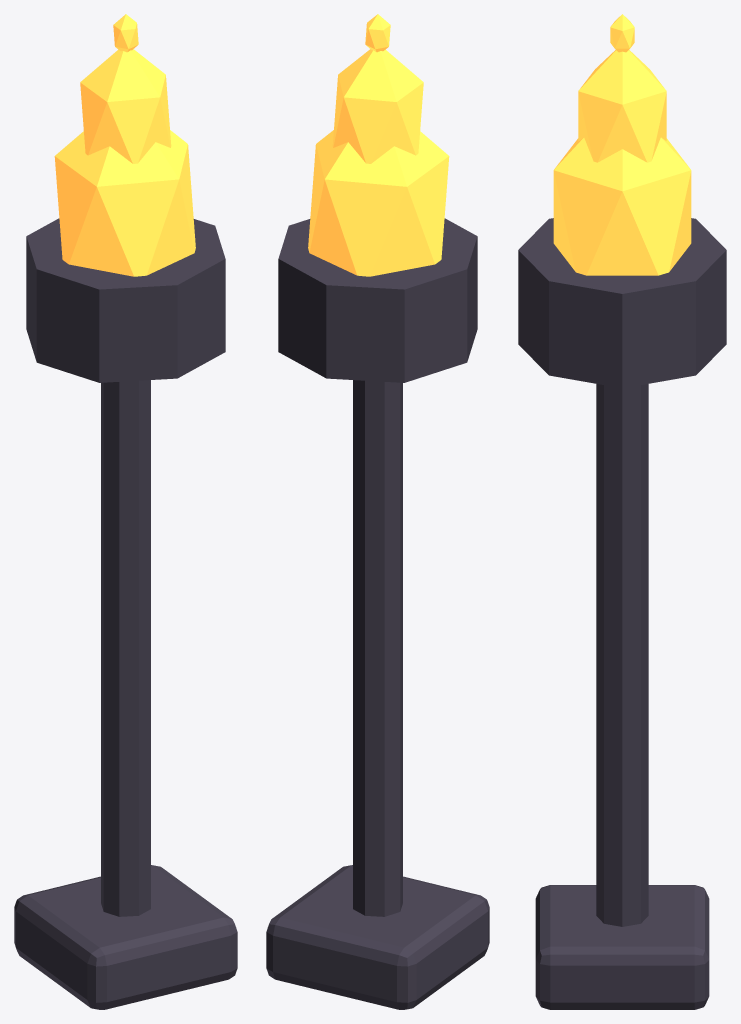
File: torch.glb
3 renders of one model, left to right at view 1: azimuth 30°, elevation 25°; view 2: azimuth 150°, elevation 25°; view 3: azimuth 270°, elevation 25°, orthographic.
Visible parts, largest first — view 1: iron stand, brazier, foot, faceted flame, faceted flame.001, faceted flame.002; view 2: iron stand, brazier, foot, faceted flame, faceted flame.001, faceted flame.002; view 3: iron stand, brazier, foot, faceted flame, faceted flame.001, faceted flame.002.
Part boxes in pixels (x1=…): iron stand: x1=101, y1=380, x2=150, y2=916; brazier: x1=26, y1=218, x2=225, y2=382; foot: x1=14, y1=865, x2=237, y2=1009; faceted flame: x1=54, y1=130, x2=195, y2=276; faceted flame.001: x1=80, y1=49, x2=171, y2=163; faceted flame.002: x1=113, y1=14, x2=138, y2=52; iron stand: x1=353, y1=380, x2=402, y2=916; brazier: x1=278, y1=218, x2=477, y2=382; foot: x1=266, y1=865, x2=489, y2=1009; faceted flame: x1=308, y1=130, x2=449, y2=276; faceted flame.001: x1=332, y1=49, x2=423, y2=163; faceted flame.002: x1=365, y1=14, x2=390, y2=52; iron stand: x1=596, y1=384, x2=648, y2=926; brazier: x1=518, y1=218, x2=726, y2=388; foot: x1=535, y1=885, x2=709, y2=1009; faceted flame: x1=553, y1=137, x2=691, y2=275; faceted flame.001: x1=578, y1=50, x2=666, y2=162; faceted flame.002: x1=610, y1=14, x2=634, y2=52.
Bounding box in the file's own units: 0.36 × 1.84 × 0.36.
